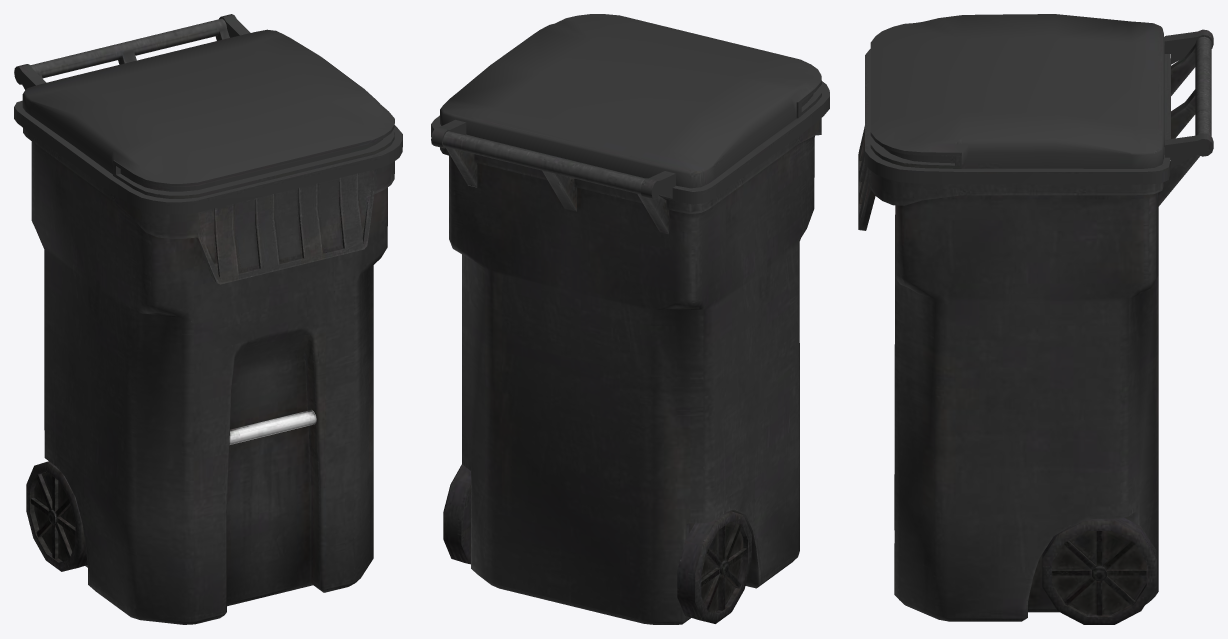
Rendered from SM_Bin_03.glb.
The picture shows the model from 3 angles, left to right: view 1: azimuth 30°, elevation 25°; view 2: azimuth 150°, elevation 25°; view 3: azimuth 270°, elevation 25°; orthographic projection. The views are drawn at different scales.
Parts seen in each view (by area): view 1: SM_Bin_03; view 2: SM_Bin_03; view 3: SM_Bin_03.
Boxes of the visible parts, box(x1,y1,x2,y2) form: SM_Bin_03: box(14, 14, 402, 624); SM_Bin_03: box(431, 14, 829, 624); SM_Bin_03: box(858, 14, 1213, 624).
Size of the model in its own units: 0.6887 by 1.14 by 0.7519.
Materials: 1 (1 with a texture image).
